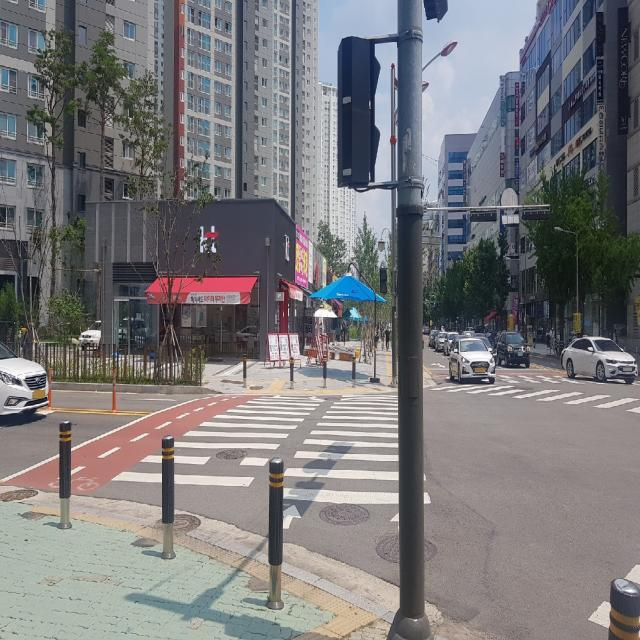횡단보도: (107, 388, 432, 534)
